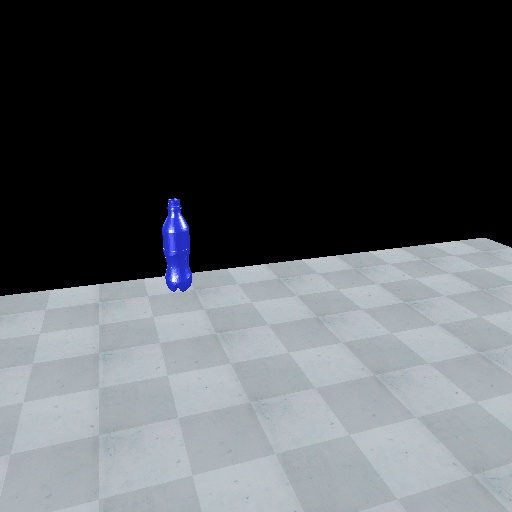bottle: (158, 196, 193, 293)
